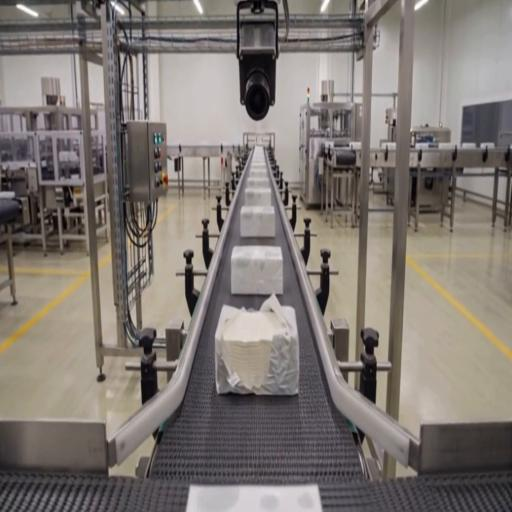defective: (215, 298, 299, 396)
good: (188, 481, 320, 512), (230, 246, 284, 296), (238, 205, 277, 240), (244, 188, 274, 210), (246, 154, 270, 175), (246, 170, 271, 189), (248, 147, 268, 161)
